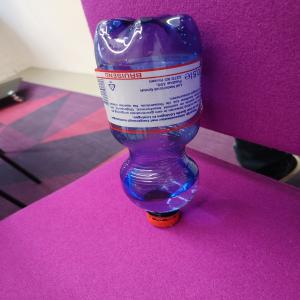Plastic-bottle: (94, 13, 207, 230)
